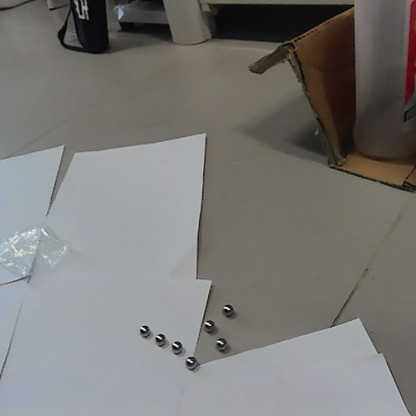ironball: (212, 334, 230, 352), (199, 317, 217, 333), (219, 299, 236, 315), (182, 355, 197, 368), (153, 331, 166, 346), (138, 321, 149, 336), (169, 339, 180, 353)
